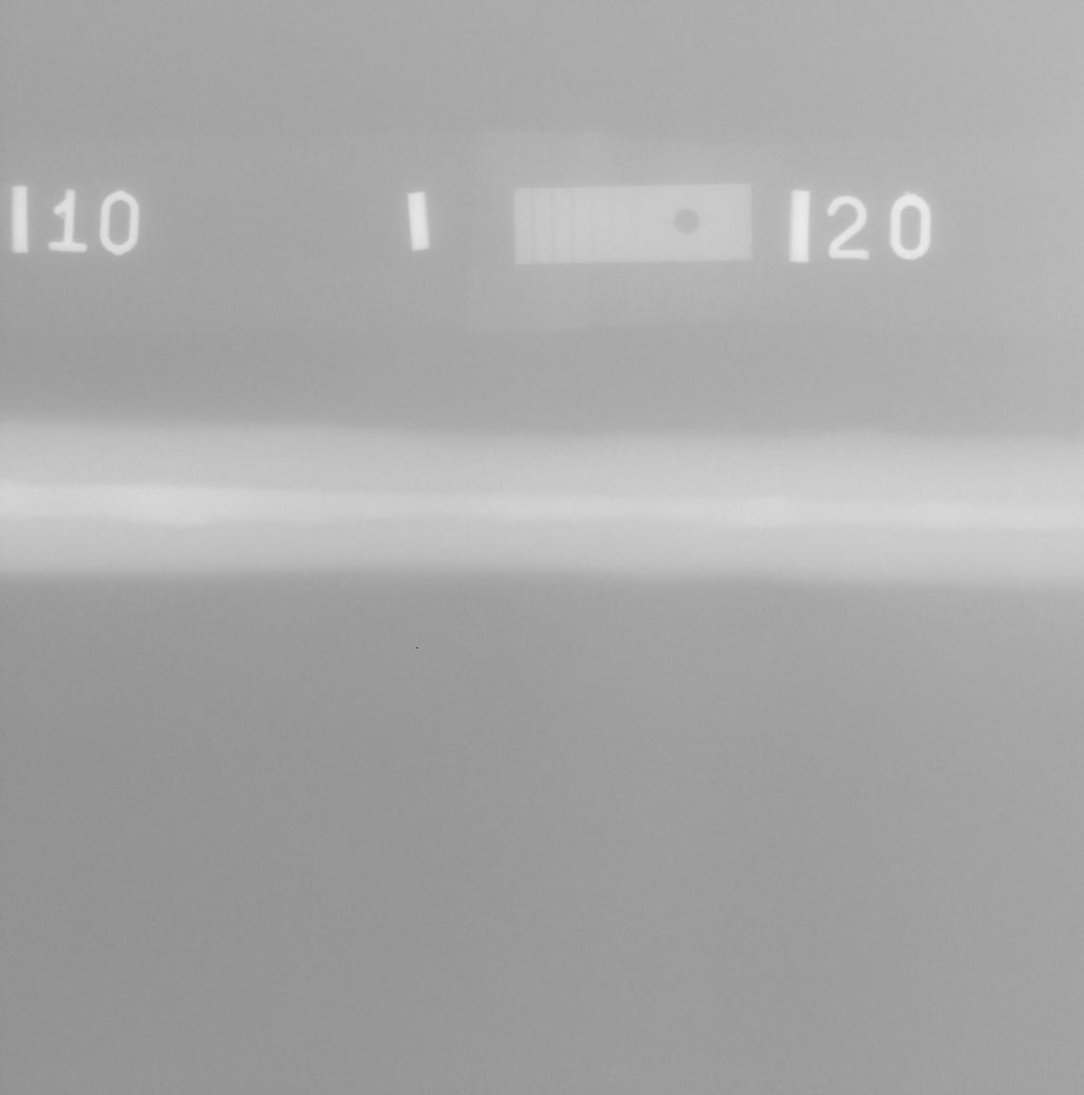Reference Standard 1: (514, 184, 754, 266)
